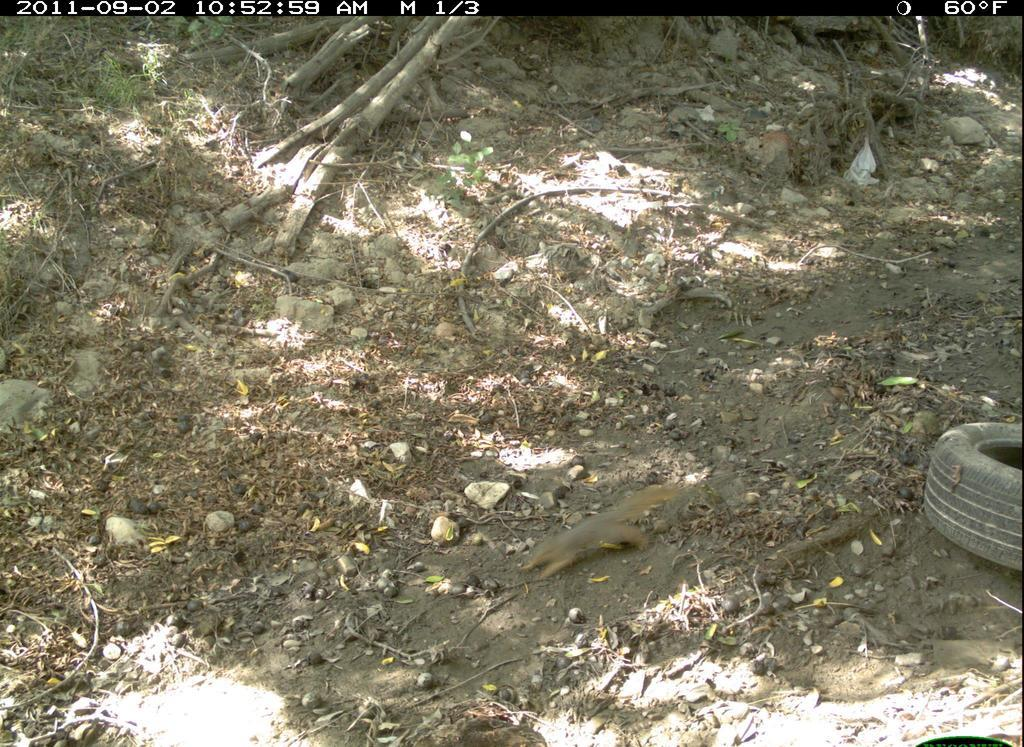squirrel: (514, 481, 701, 588)
